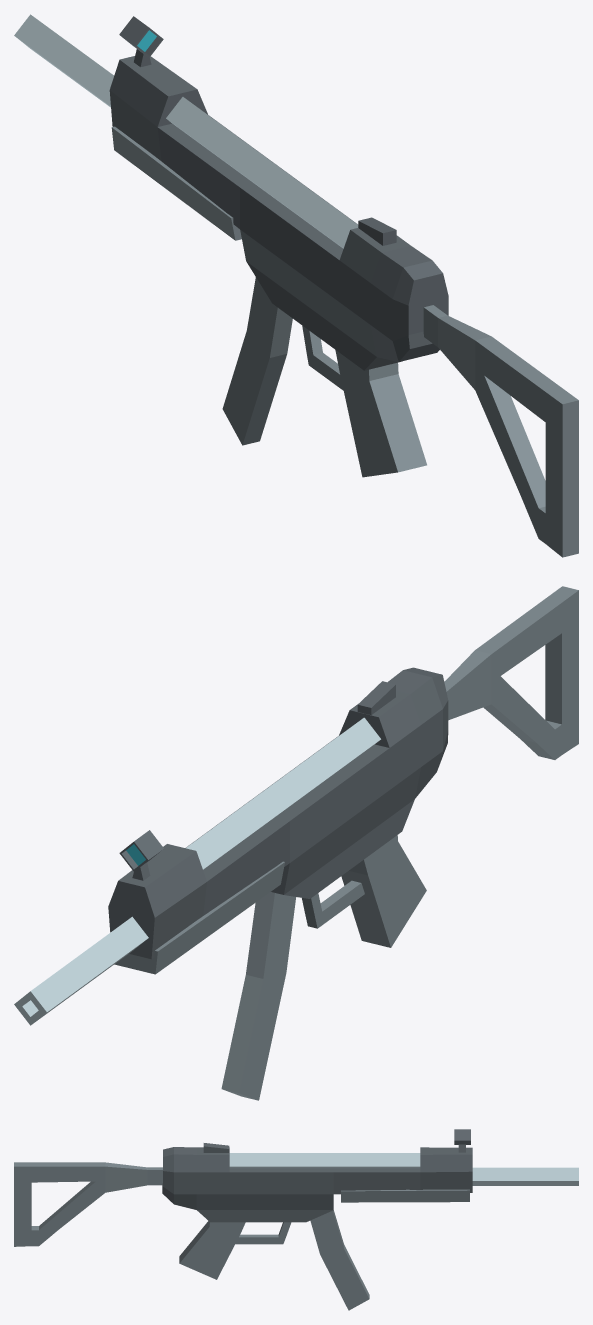
The model's file is smg-mp5x.glb.
3 views of the same model, one above another, from view 1: azimuth 30°, elevation 25°; view 2: azimuth 150°, elevation 25°; view 3: azimuth 270°, elevation 25° (orthographic). The views are drawn at different scales.
Parts seen in each view (by area): view 1: mp5, mag; view 2: mp5, mag; view 3: mp5, mag.
Part boxes in pixels (bbox=[...]): mp5: bbox=[14, 14, 578, 557]; mag: bbox=[222, 277, 292, 445]; mp5: bbox=[14, 586, 578, 1025]; mag: bbox=[221, 892, 296, 1100]; mp5: bbox=[14, 1129, 578, 1279]; mag: bbox=[310, 1210, 369, 1310].
Size of the model in its own units: 0.0363 by 0.2161 by 0.6177.
